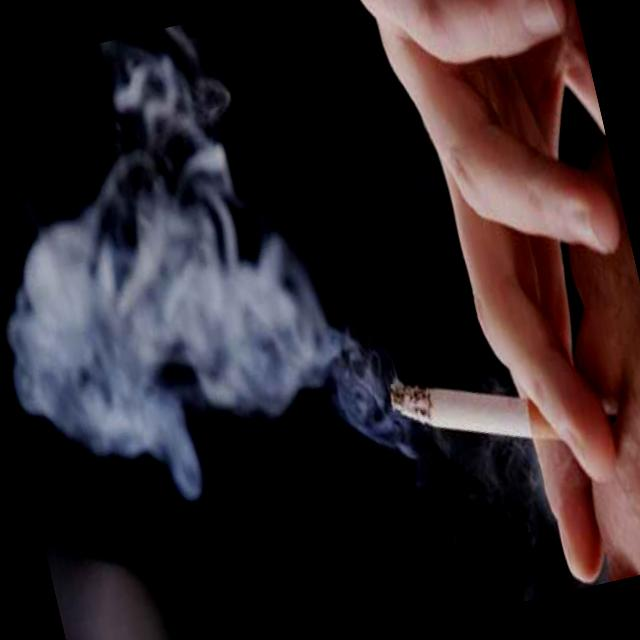cigarette: (366, 311, 557, 481)
